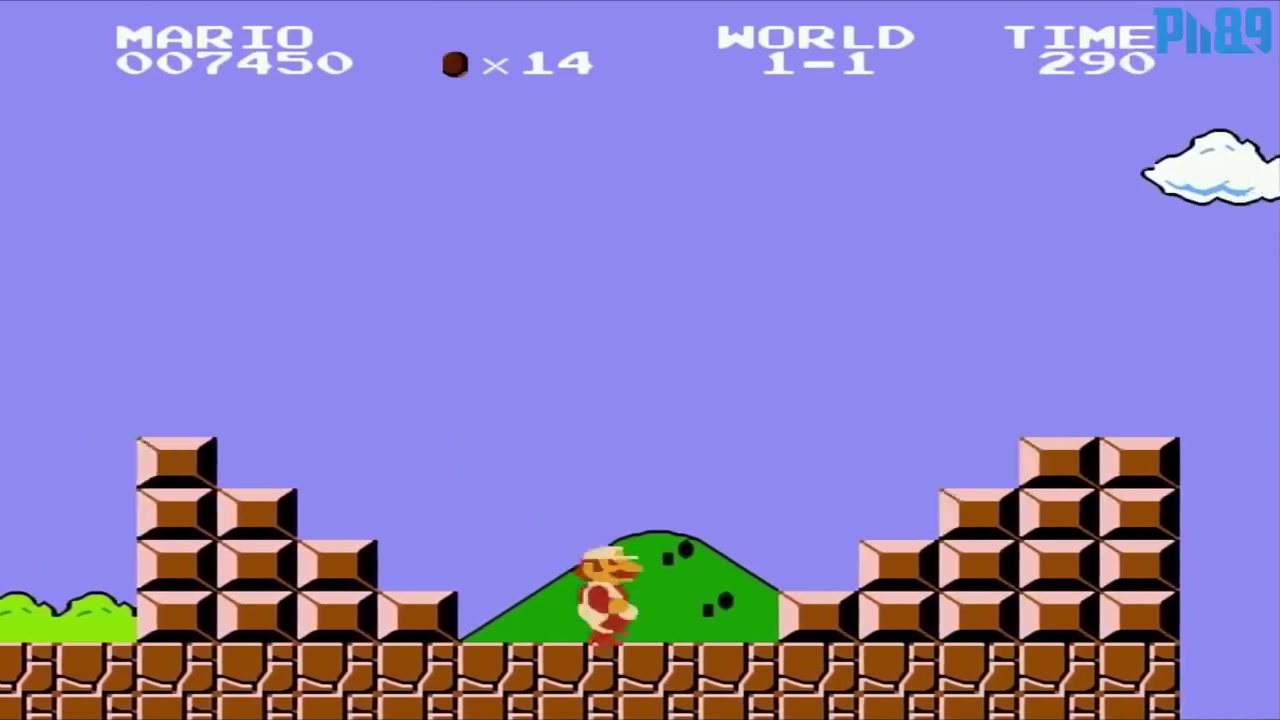mario: (567, 534, 648, 644)
